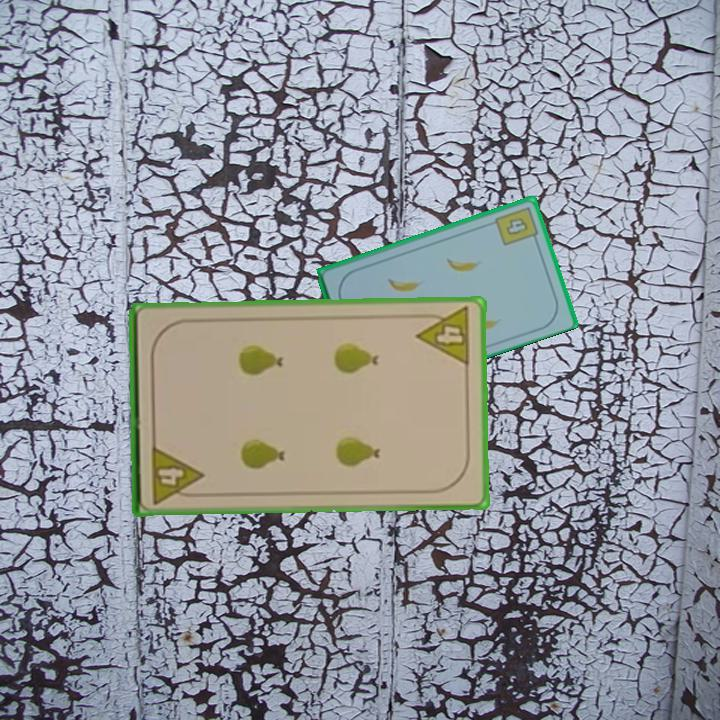4b: (491, 203, 541, 248)
4p: (413, 304, 474, 369), (148, 441, 205, 506)
